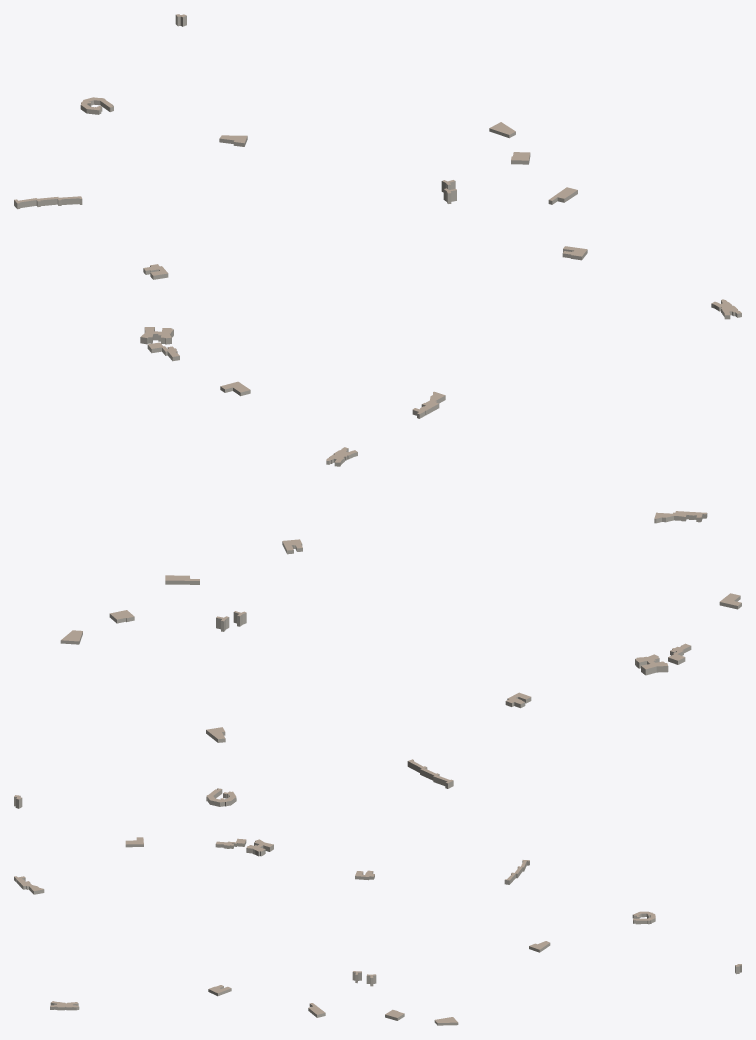
The picture shows the model from 3 angles, top to bottom: view 1: azimuth 30°, elevation 25°; view 2: azimuth 150°, elevation 25°; view 3: azimuth 270°, elevation 25°; orthographic projection. The views are drawn at different scales.
Size of the model in its own units: 1309 by 48.41 by 2167.
